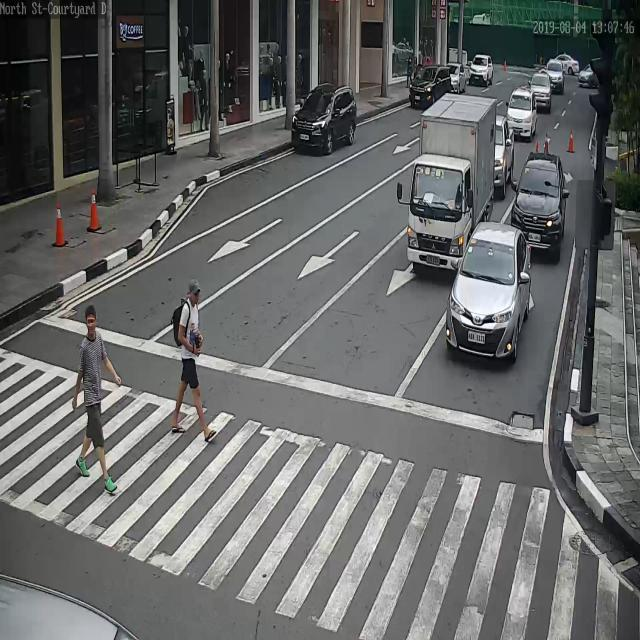car: (445, 219, 533, 363), (511, 152, 567, 260), (291, 82, 357, 157), (409, 64, 451, 110), (496, 115, 516, 195), (507, 88, 537, 139), (529, 73, 551, 112), (469, 53, 493, 88), (446, 60, 466, 94), (548, 53, 579, 74), (546, 59, 563, 95), (579, 63, 596, 87)
motorcycle: (407, 91, 495, 271)
